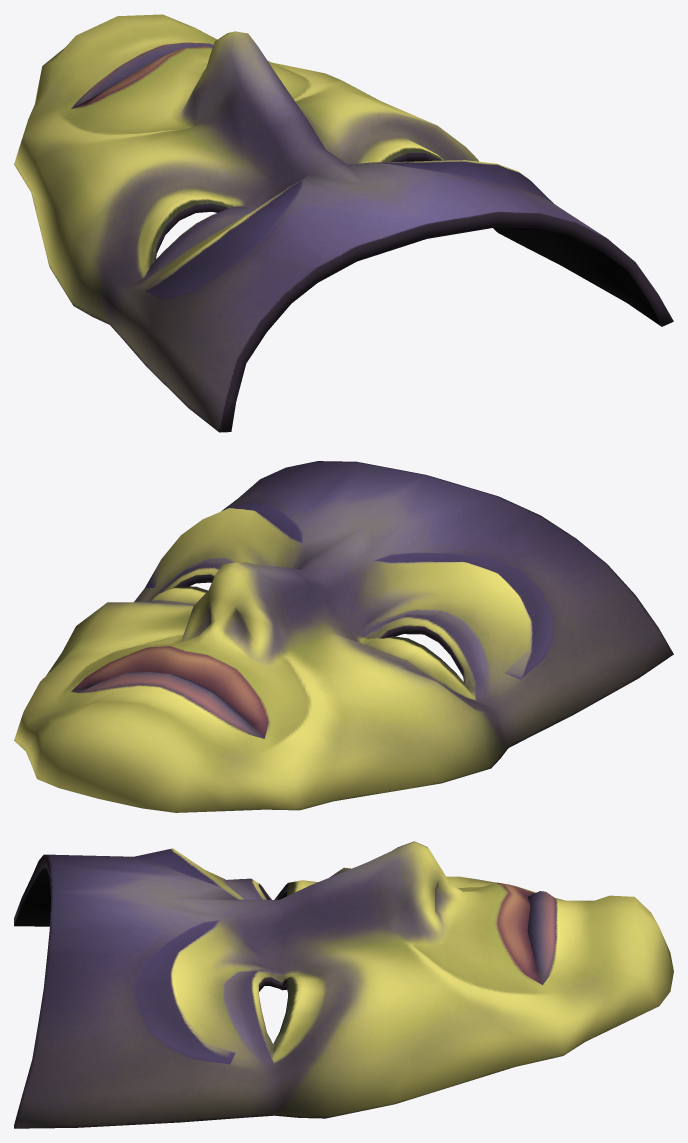
The model's file is anim1_000089.obj.
The picture shows the model from 3 angles, top to bottom: view 1: azimuth 30°, elevation 25°; view 2: azimuth 150°, elevation 25°; view 3: azimuth 270°, elevation 25°; orthographic projection. The views are drawn at different scales.
Parts seen in each view (by area): view 1: 151out; view 2: 151out; view 3: 151out.
Part boxes in pixels (x1,y1,x2,y2): 151out: [14, 14, 673, 432]; 151out: [14, 461, 673, 812]; 151out: [14, 841, 673, 1128].
Size of the model in its own units: 4.16 by 1.69 by 5.52.
